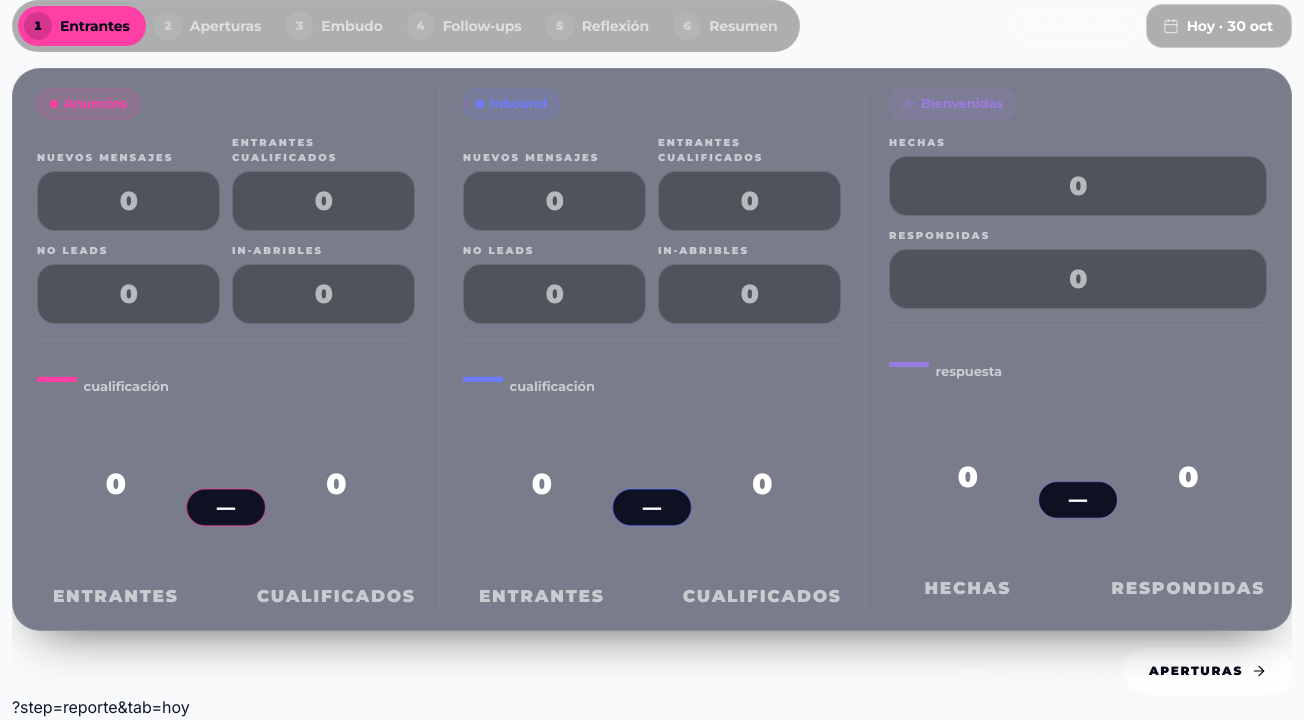
ReporteDiario · los pasos › en Aperturas carga cuántos respondieron y da el % de respuesta de cada columna
Click the button "Aperturas" at (1208, 671), box [1124,647,1292,695]
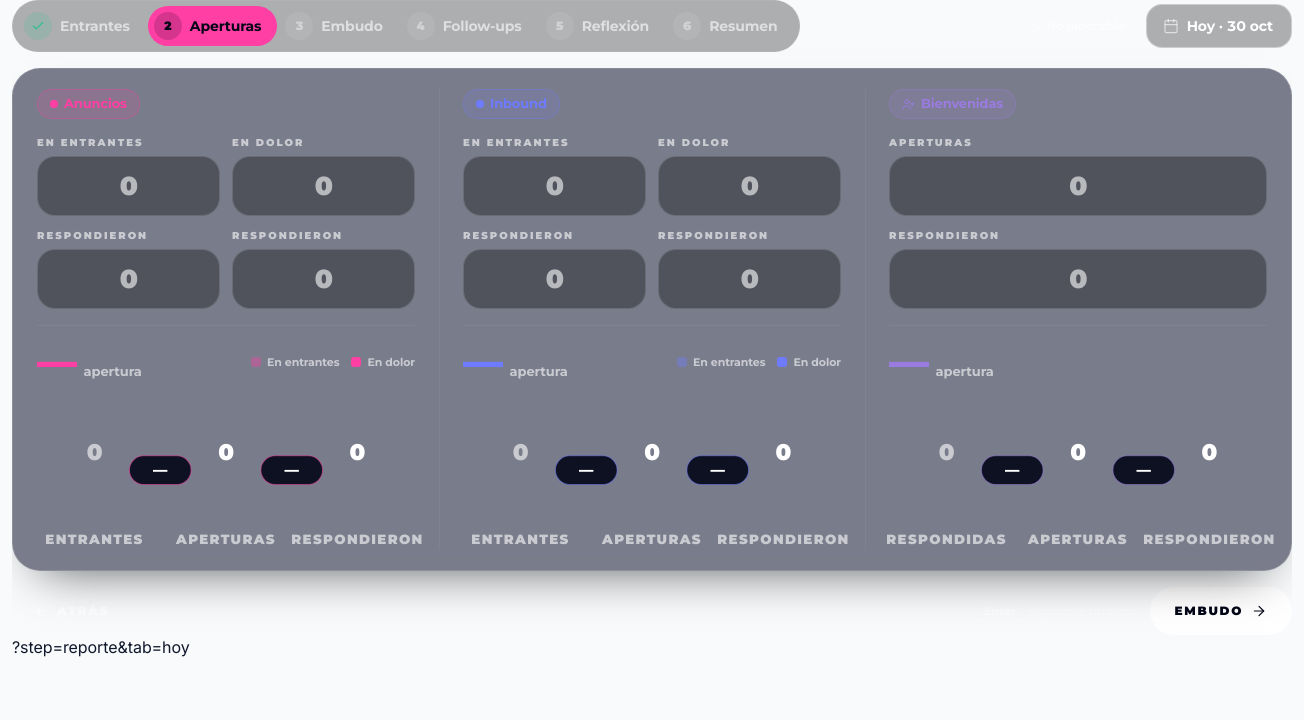
Type "3" into the field named "Anuncios, aperturas en entrantes" at (128, 186), box [38,157,219,215]
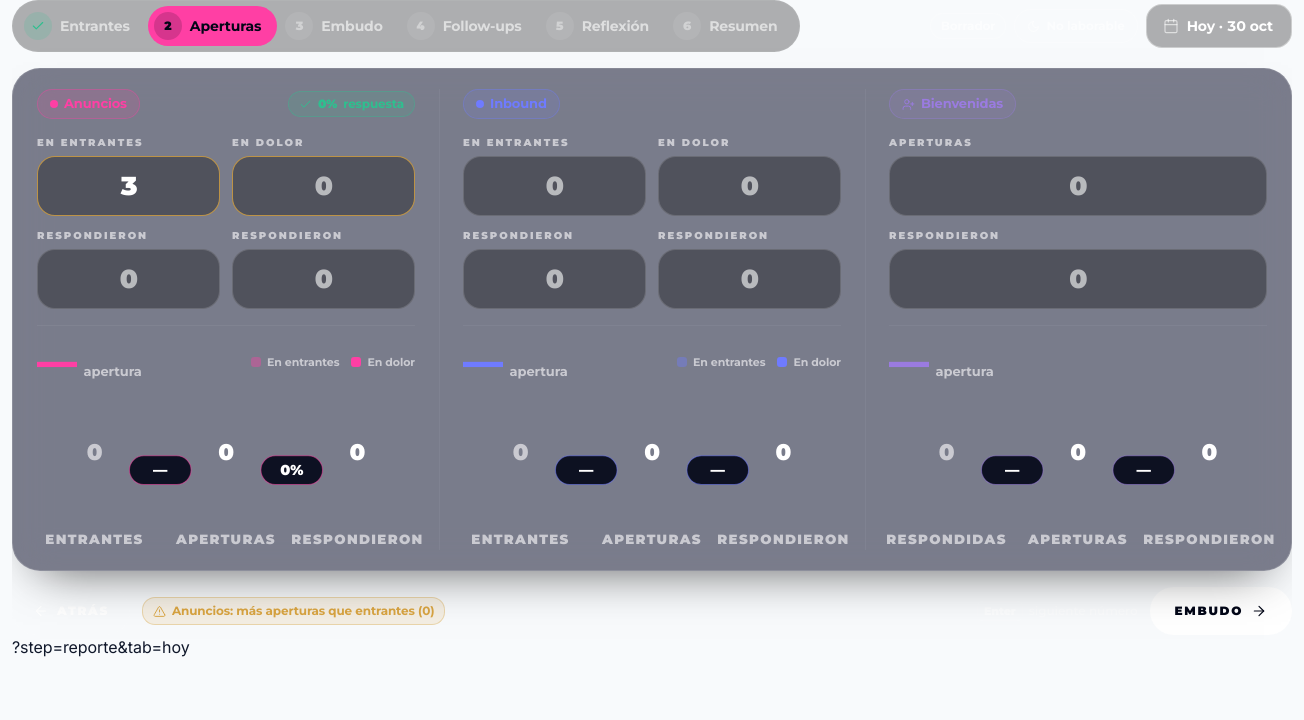
Type "5" into the field named "Anuncios, aperturas en dolor" at (324, 186), box [233,157,414,215]
Type "1" into the field named "Anuncios, respondieron las aperturas en entrantes" at (128, 279), box [38,250,219,308]
Type "3" into the field named "Anuncios, respondieron las aperturas en dolor" at (324, 279), box [233,250,414,308]
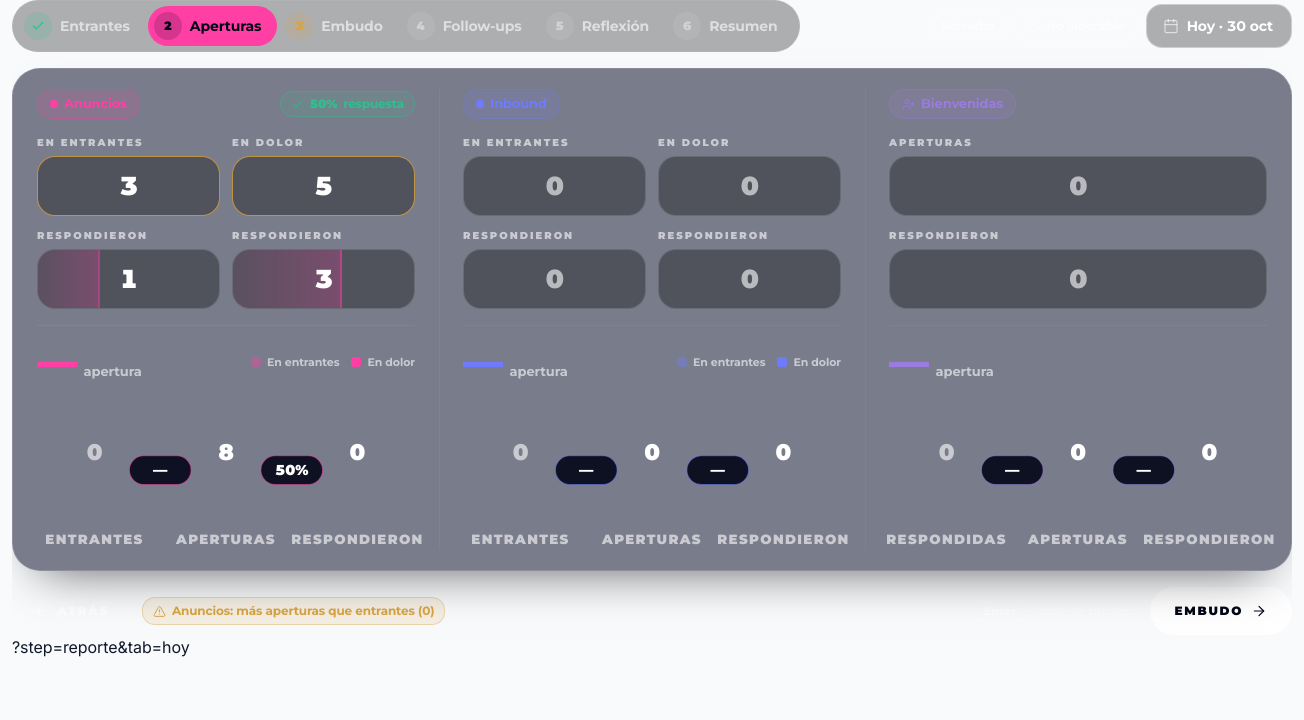
Type "4" into the field named "Bienvenidas, aperturas" at (1078, 186), box [890,157,1266,215]
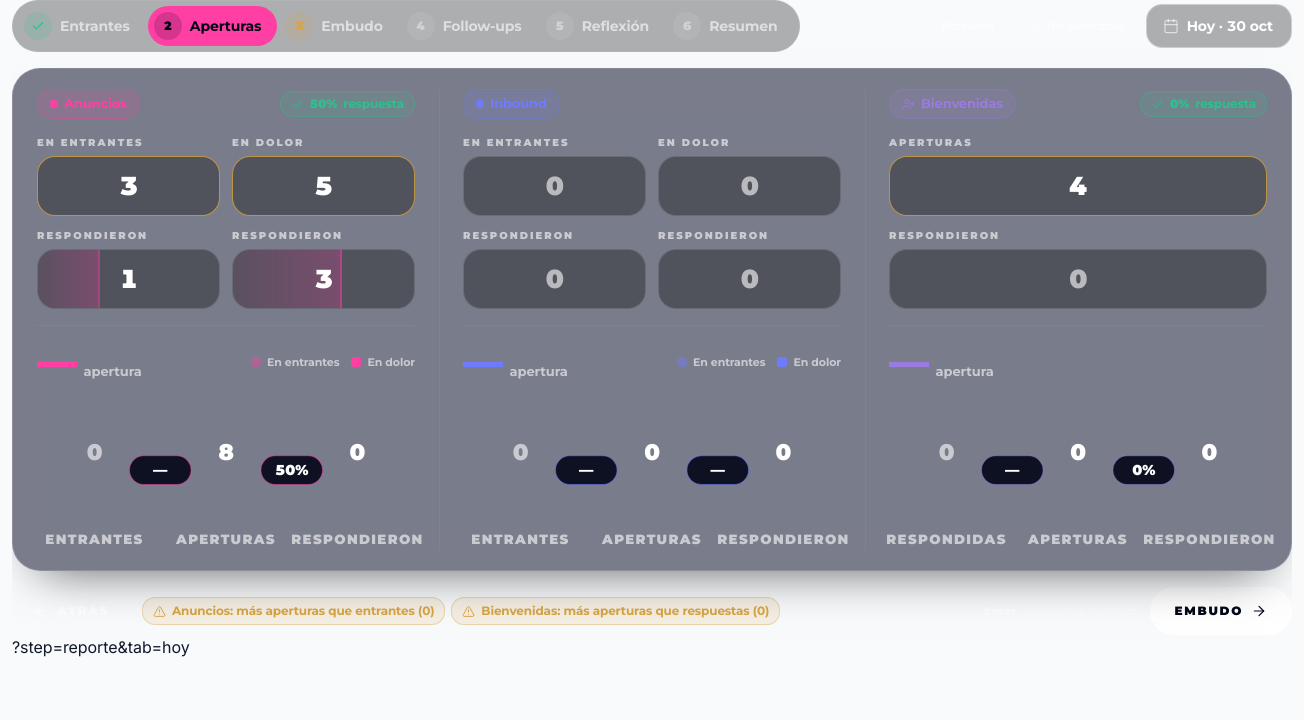
Type "1" into the field named "Bienvenidas, respondieron las aperturas" at (1078, 279), box [890,250,1266,308]
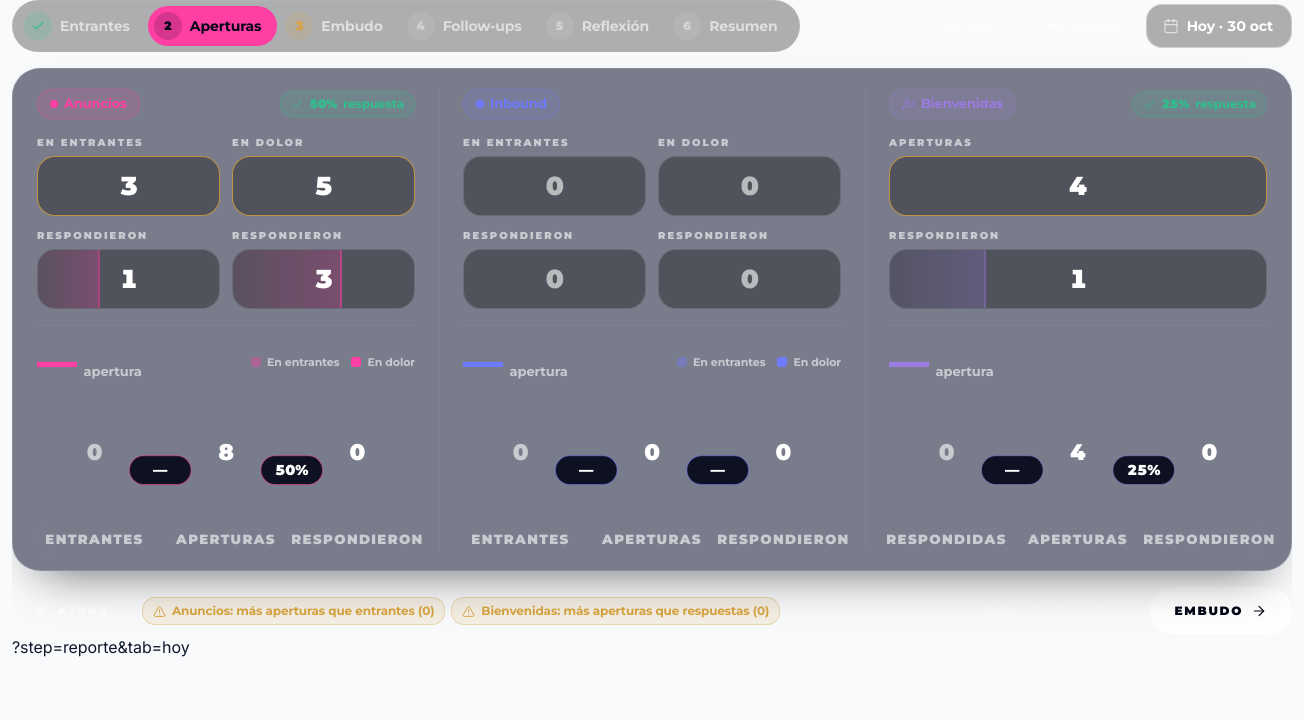
Replace the text in the field named "Anuncios, respondieron las aperturas en dolor" with "6" at (324, 279), box [233,250,414,308]
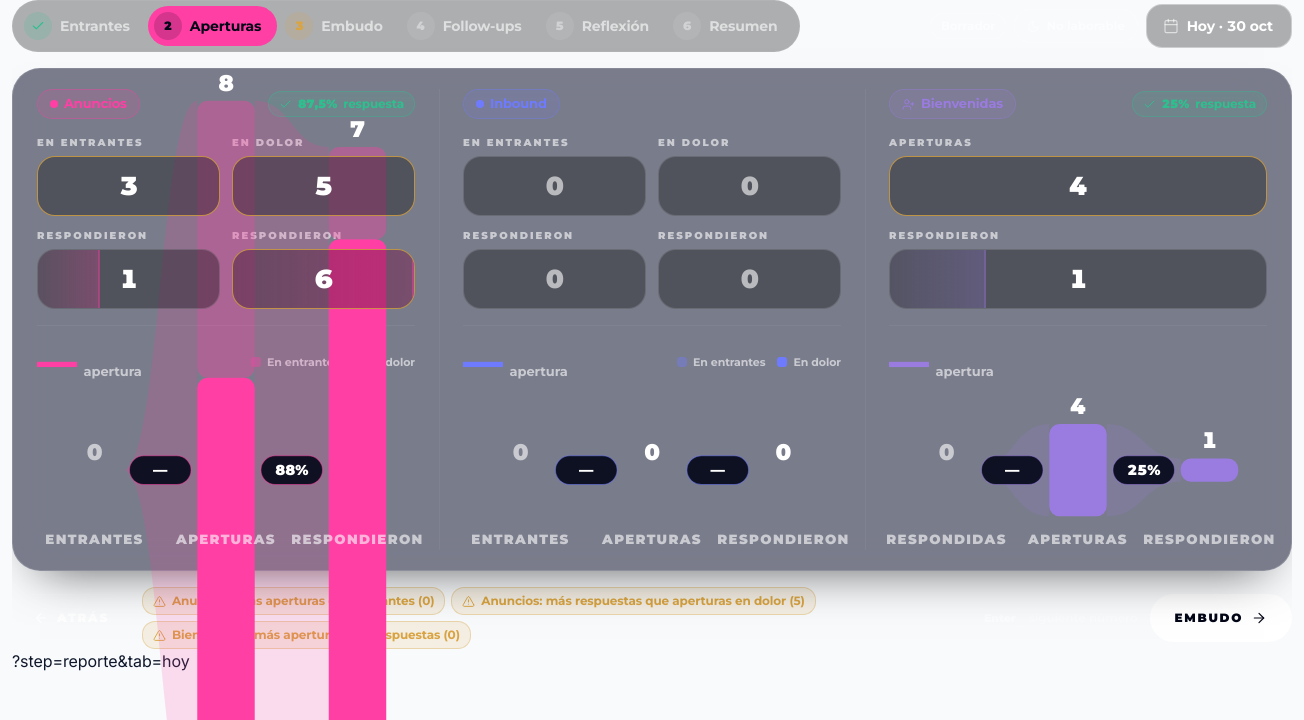
Check: the text "Anuncios: más respuestas que aperturas en dolor (5)" is shown, box [481,592,805,610]
